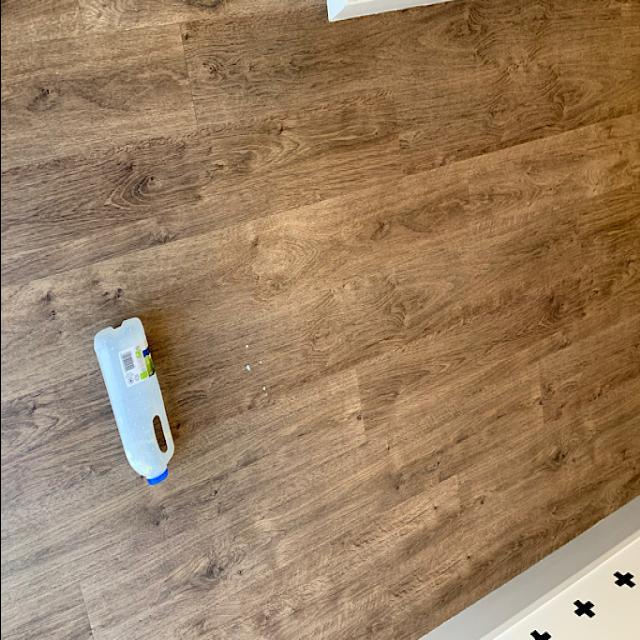litter: (90, 312, 176, 488)
